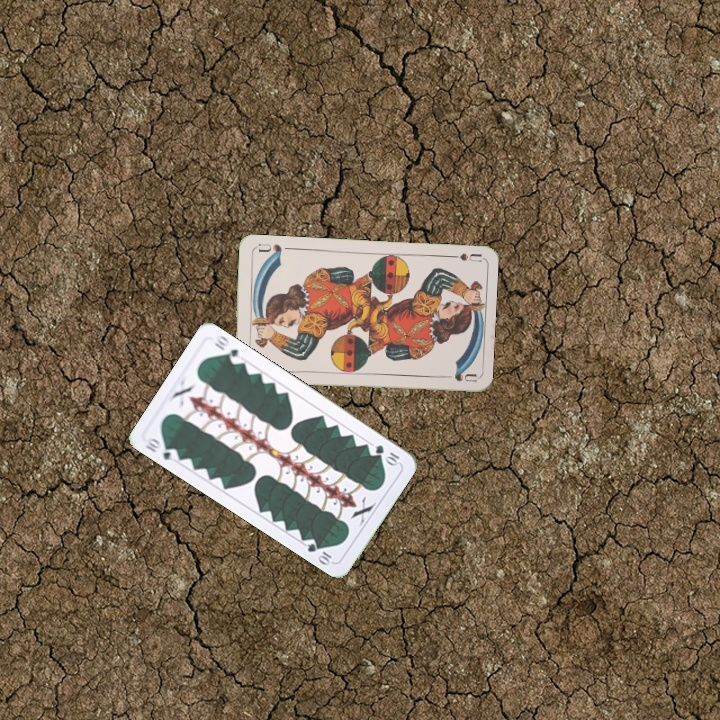G10: (141, 434, 181, 463), (371, 440, 402, 468)
SU: (442, 249, 483, 264)
